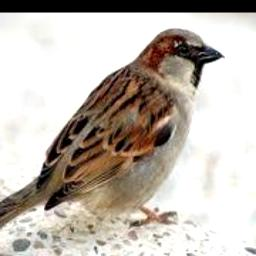Sparrow: (0, 29, 225, 242)
